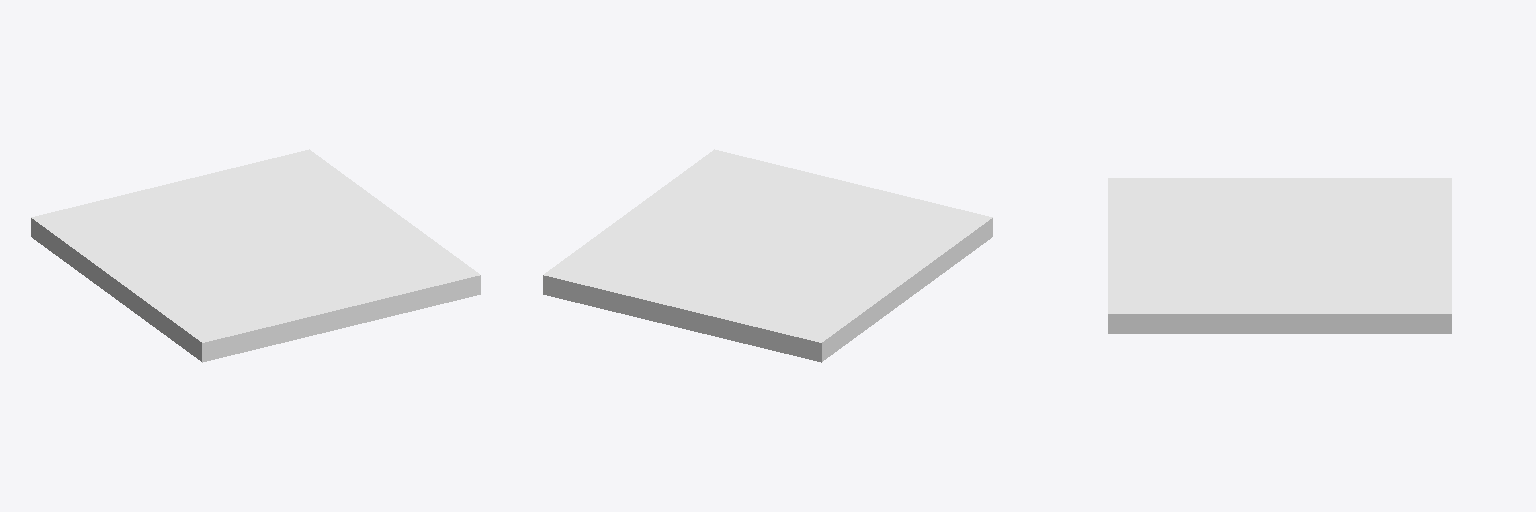
The model's file is Poster_the_shining.obj.
3 views of the same model, side by side, from view 1: azimuth 30°, elevation 25°; view 2: azimuth 150°, elevation 25°; view 3: azimuth 270°, elevation 25° (orthographic).
Parts seen in each view (by area): view 1: object 1; view 2: object 1; view 3: object 1.
Part boxes in pixels (bbox=[...]): object 1: bbox=[31, 149, 480, 362]; object 1: bbox=[543, 149, 992, 362]; object 1: bbox=[1108, 178, 1451, 333].
Bounding box in the file's own units: 3 × 0.2 × 3.2.